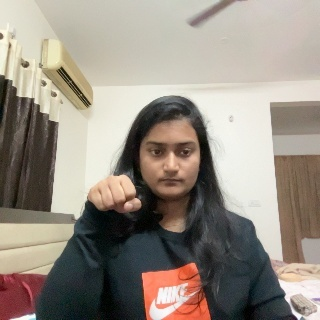Face: (138, 108, 203, 194)
Yes: (86, 171, 142, 236)
